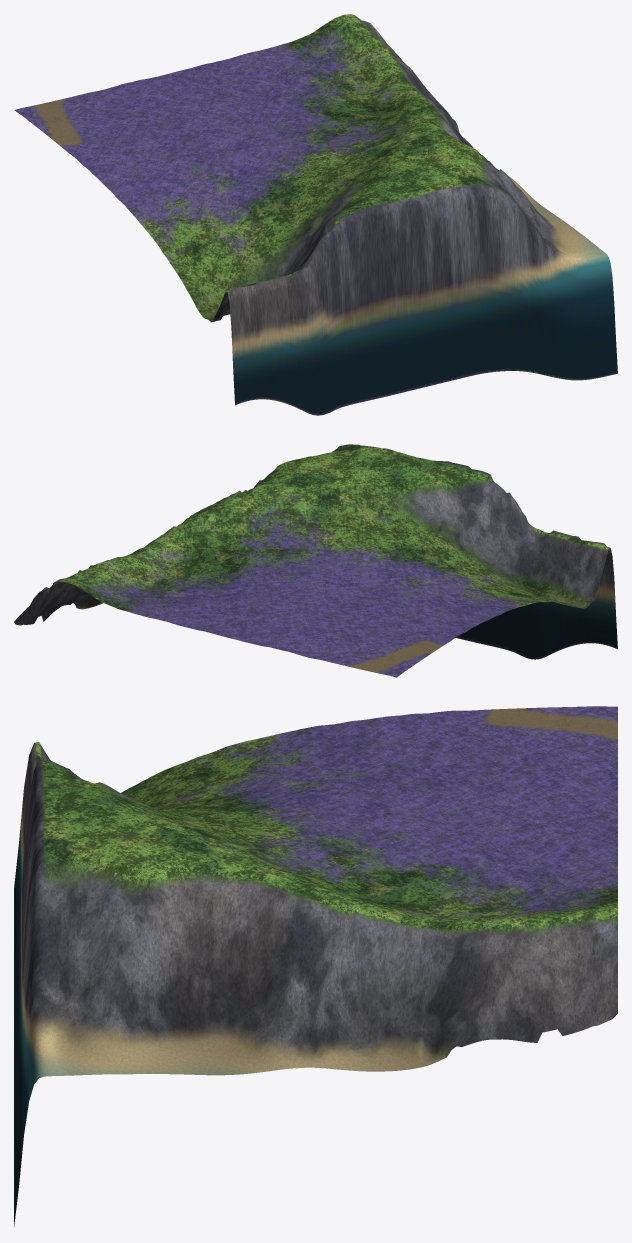
The picture shows the model from 3 angles, top to bottom: view 1: azimuth 30°, elevation 25°; view 2: azimuth 150°, elevation 25°; view 3: azimuth 270°, elevation 25°; orthographic projection. The views are drawn at different scales.
Visible parts, largest first — view 1: t128_000; view 2: t128_000; view 3: t128_000.
Boxes of the visible parts, bbox=[...] form: t128_000: bbox=[14, 14, 617, 415]; t128_000: bbox=[14, 444, 617, 677]; t128_000: bbox=[14, 706, 617, 1226].
Size of the model in its own units: 64 by 35.04 by 64.
Materials: 1 (1 with a texture image).
